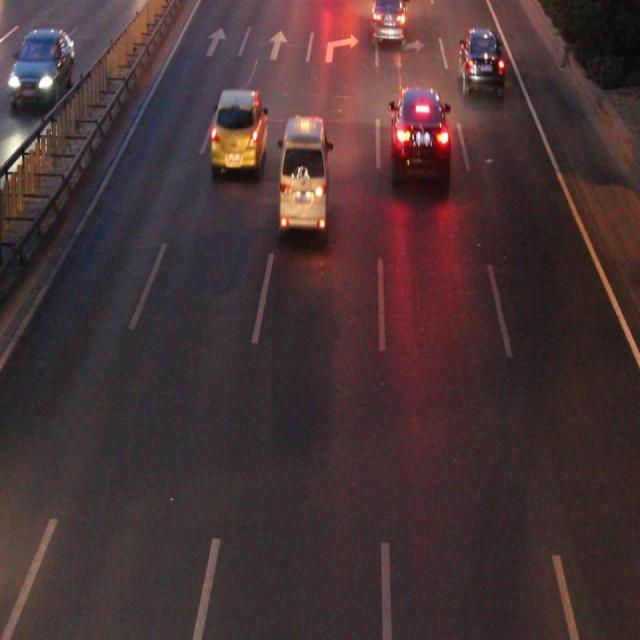car: (391, 91, 448, 182), (211, 90, 266, 166), (458, 32, 502, 91), (371, 1, 405, 39)
truck: (278, 118, 326, 229)
